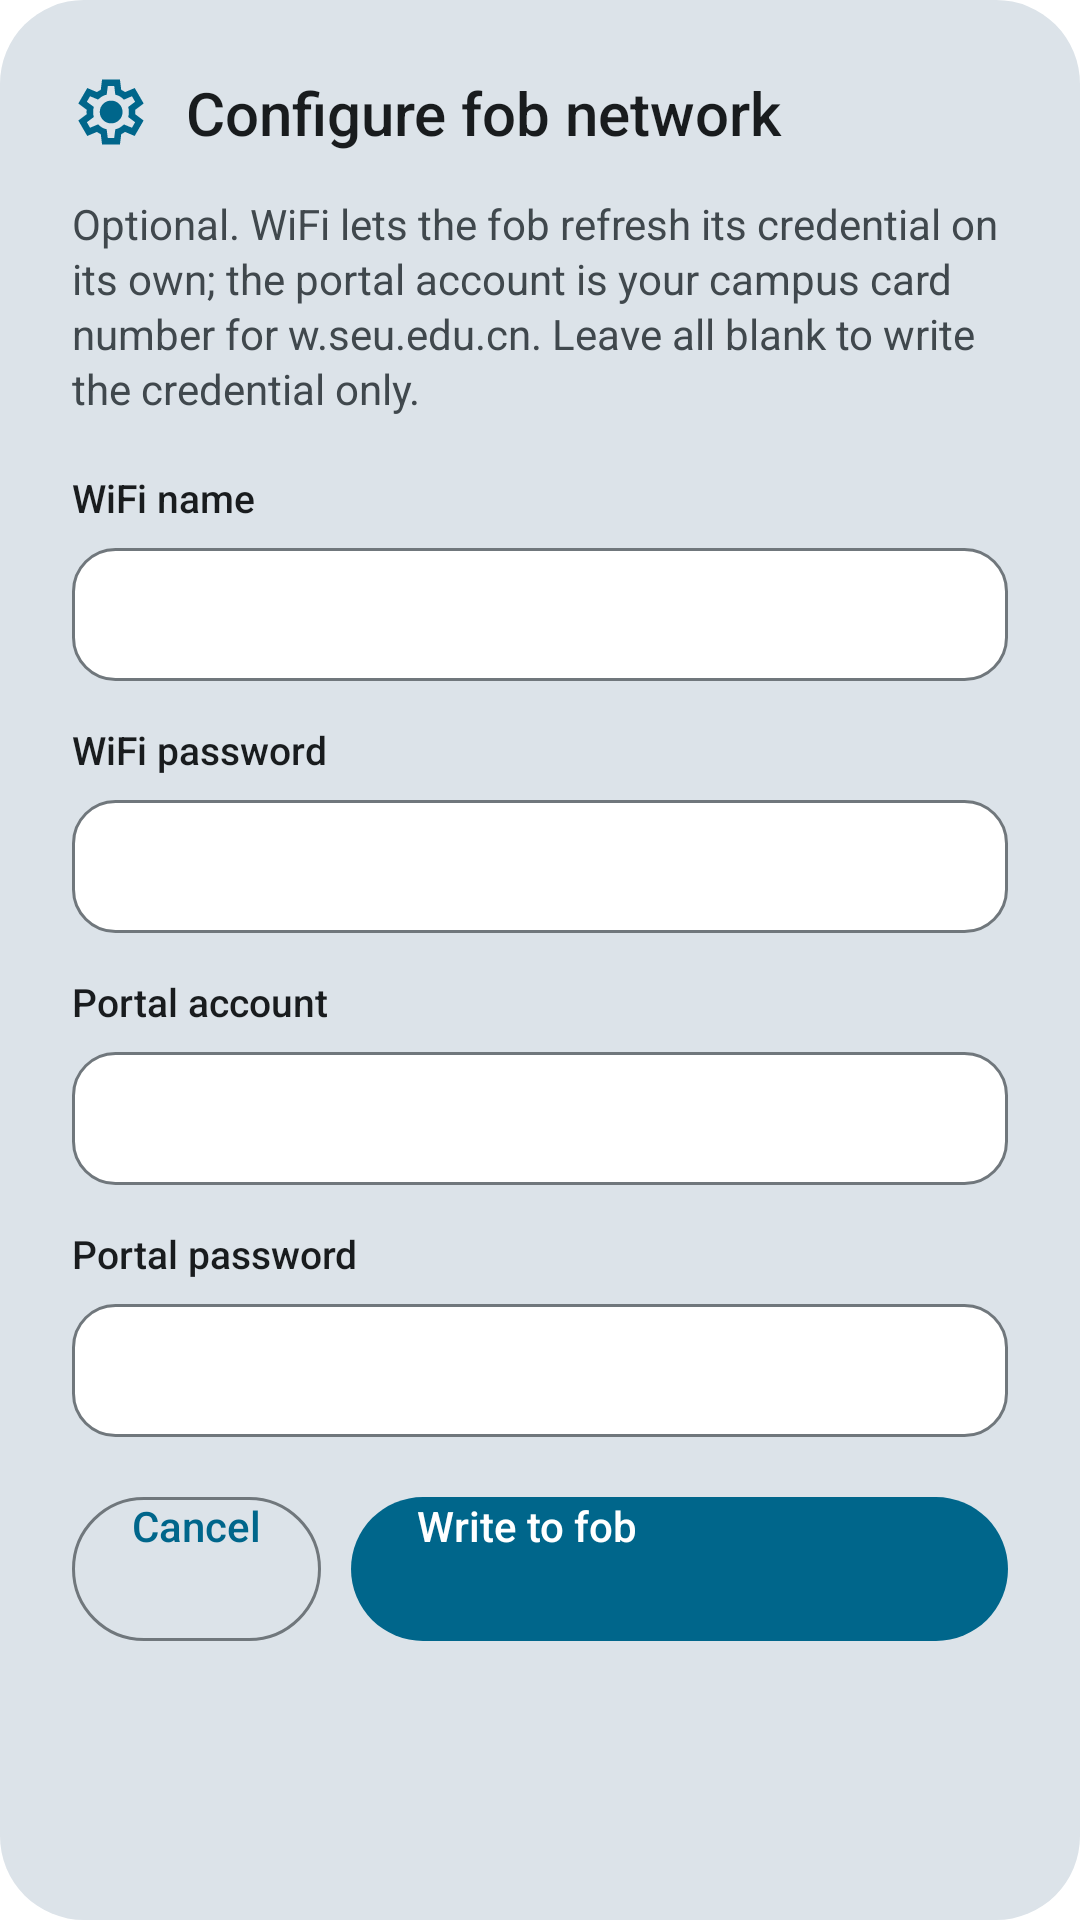

Where to tap for icons on this 1080px x 1920px app screen, as [x,y]:
settings: [111,112]
